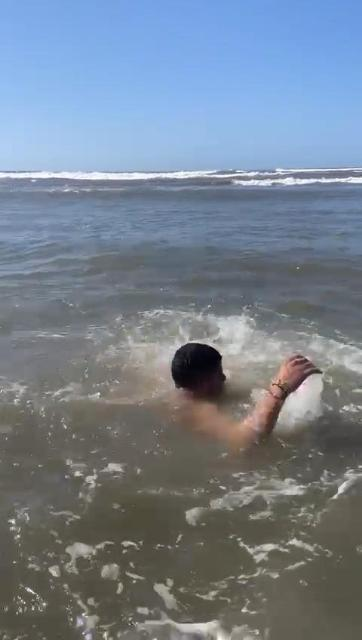drowning: (112, 308, 336, 453)
